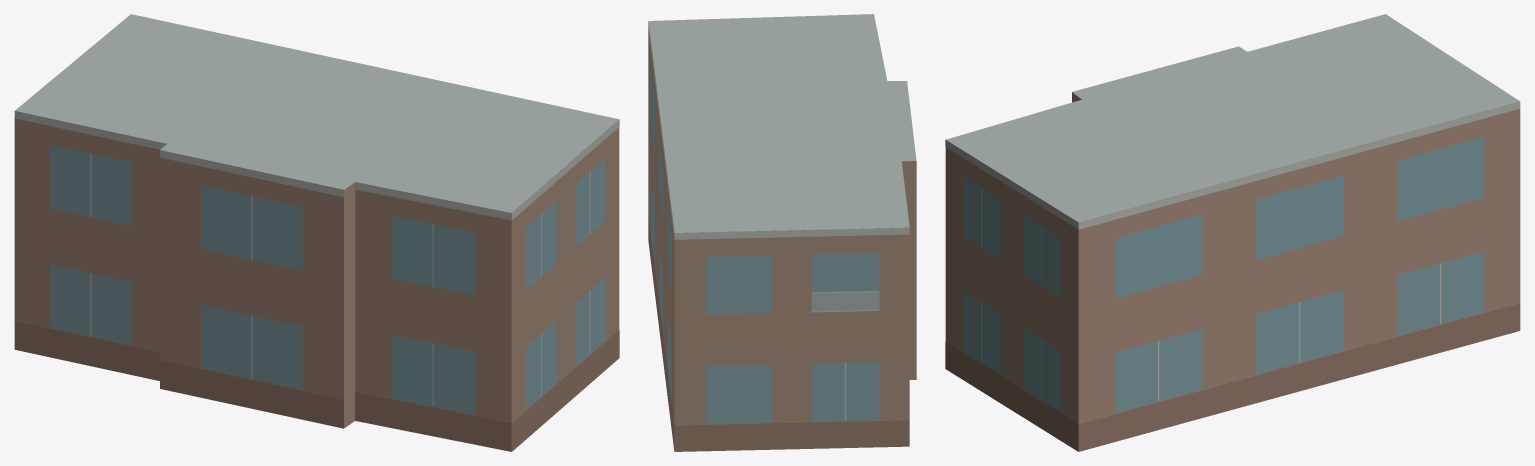
Rendered from survey-upis-32625515.glb.
3 views of the same model, side by side, from view 1: azimuth 30°, elevation 25°; view 2: azimuth 150°, elevation 25°; view 3: azimuth 270°, elevation 25° (orthographic). The views are drawn at different scales.
Visible parts, largest first — view 1: survey-upis-32625515.tmp; view 2: survey-upis-32625515.tmp; view 3: survey-upis-32625515.tmp.
Part boxes in pixels (left/top/right/bottom): survey-upis-32625515.tmp: left=14, top=14, right=619, bottom=451; survey-upis-32625515.tmp: left=648, top=14, right=916, bottom=451; survey-upis-32625515.tmp: left=945, top=14, right=1520, bottom=451.
Bounding box in the file's own units: 15.22 × 7.8 × 17.72.
